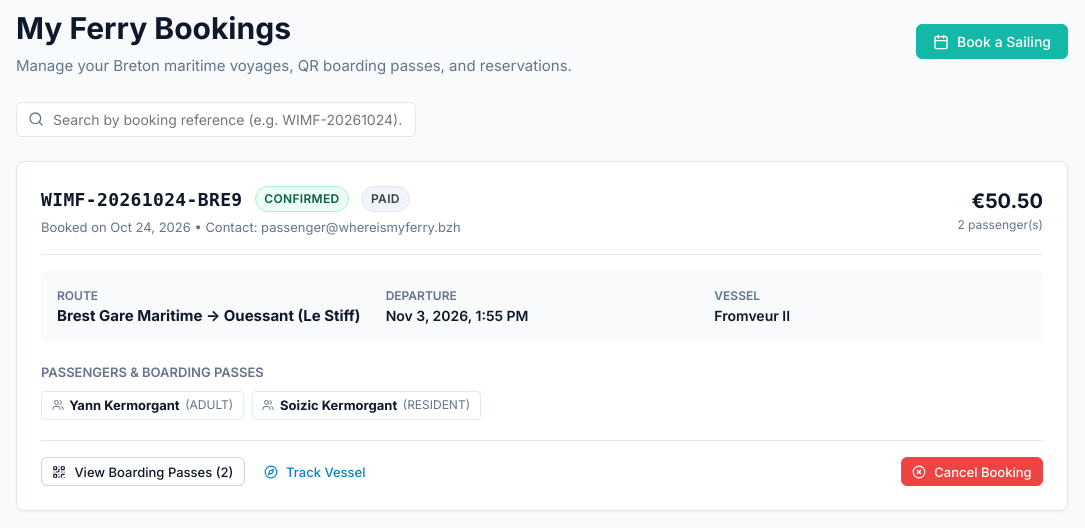
Test case: BookingsPage Component › filters bookings by reference in search input
The image size is (1085, 528).
Expected: the text "WIMF-20261024-BRE9" is shown, [41,186,242,212]
Type "NONEXISTENT" into the field with placeholder "Search by booking reference (e.g. WIMF-20261024)..." at (216, 119), box [16,102,416,136]
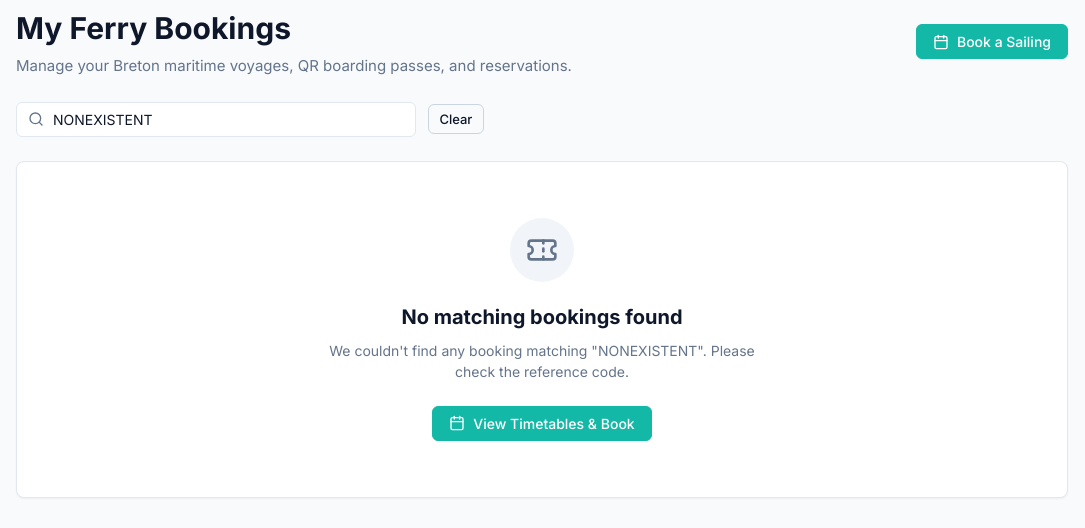
Expected: the heading "No matching bookings found" is shown, [401,304,683,328]
Replace the text in the field with placeholder "Search by booking reference (e.g. WIMF-20261024)..." with "BRE9" at (216, 119), box [16,102,416,136]
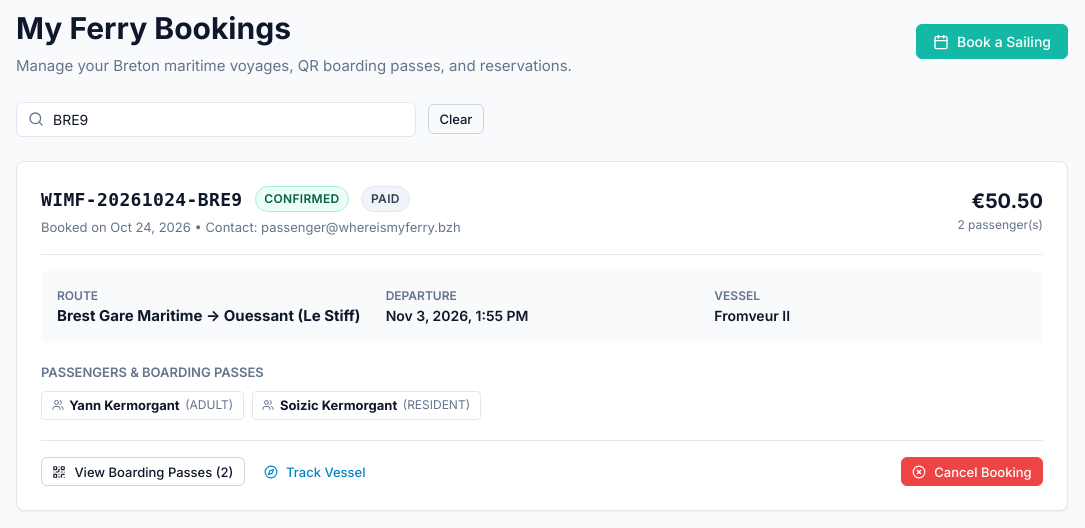
Expected: the text "WIMF-20261024-BRE9" is shown, [41,186,242,212]
